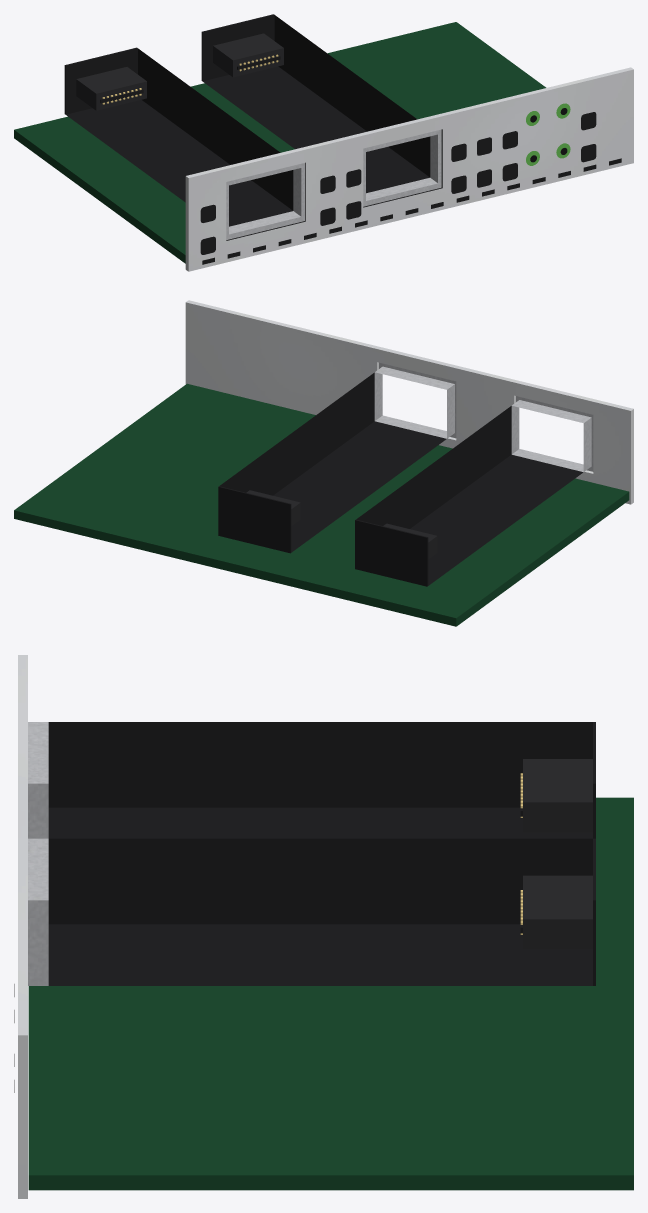
The picture shows the model from 3 angles, top to bottom: view 1: azimuth 30°, elevation 25°; view 2: azimuth 150°, elevation 25°; view 3: azimuth 270°, elevation 25°; orthographic projection. The views are drawn at different scales.
Parts seen in each view (by area): view 1: Card; view 2: Card; view 3: Card.
Boxes of the visible parts, bbox=[...] form: Card: bbox=[14, 14, 633, 271]; Card: bbox=[14, 300, 633, 626]; Card: bbox=[18, 655, 633, 1198].
Size of the model in its own units: 0.0876 by 0.0176 by 0.0604.
8 materials, 2 textured.
